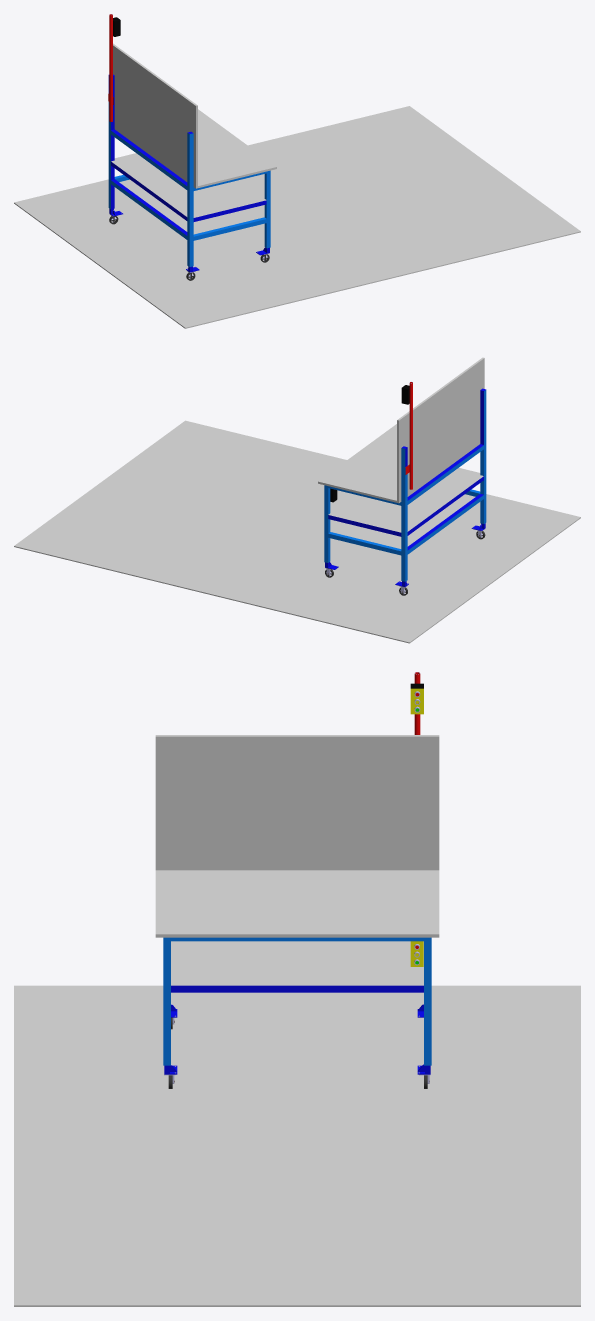
File: Scene_Conditionnement_FBX.fbx
3 views of the same model, one above another, from view 1: azimuth 30°, elevation 25°; view 2: azimuth 150°, elevation 25°; view 3: azimuth 270°, elevation 25° (orthographic). The views are drawn at different scales.
Visible parts, largest first — view 1: plan-post003, Part002, Part1; view 2: plan-post003, Part002, Part1; view 3: plan-post003, Part002.
Boxes of the visible parts, box(x1,y1,x2,y2) form: plan-post003: box(14, 106, 580, 328); Part002: box(108, 43, 276, 272); Part1: box(109, 14, 120, 121); plan-post003: box(14, 420, 580, 643); Part002: box(318, 357, 486, 586); Part1: box(401, 381, 412, 489); plan-post003: box(14, 985, 580, 1306); Part002: box(155, 735, 439, 1074).
Bounding box in the file's own units: 400 × 206 × 300.
